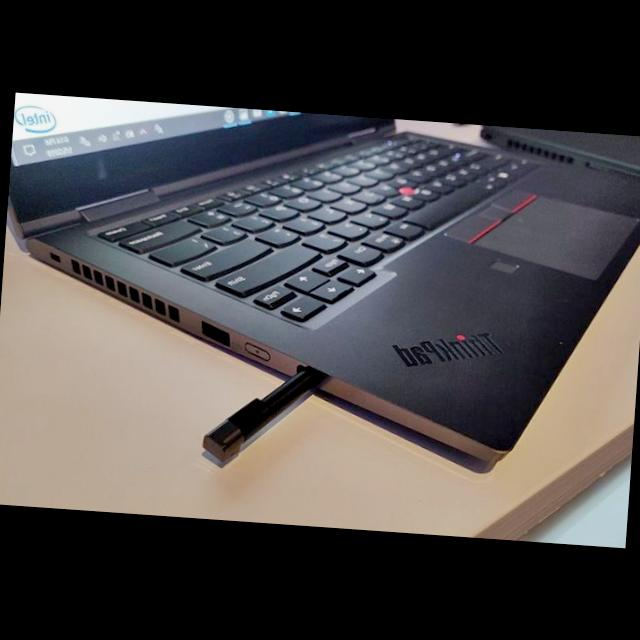laptop: (0, 92, 630, 440)
